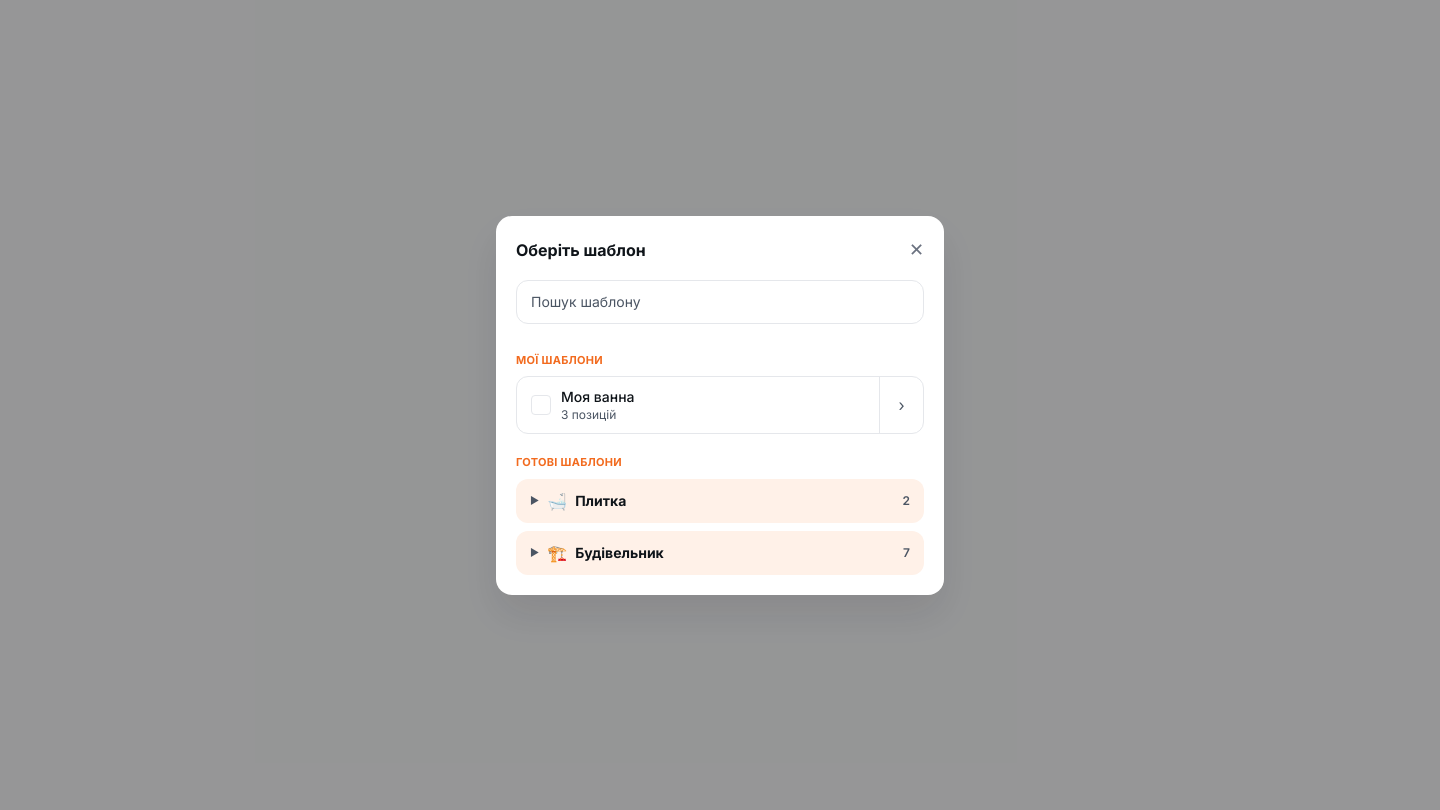
TemplatePickerSheet — trade is the top level › a search opens every branch — a collapsed trade cannot swallow a hit
The width and height of the screenshot is (1440, 810).
Type "к" into the search field.
click(720, 302); type("к")  # box [516, 280, 924, 324]
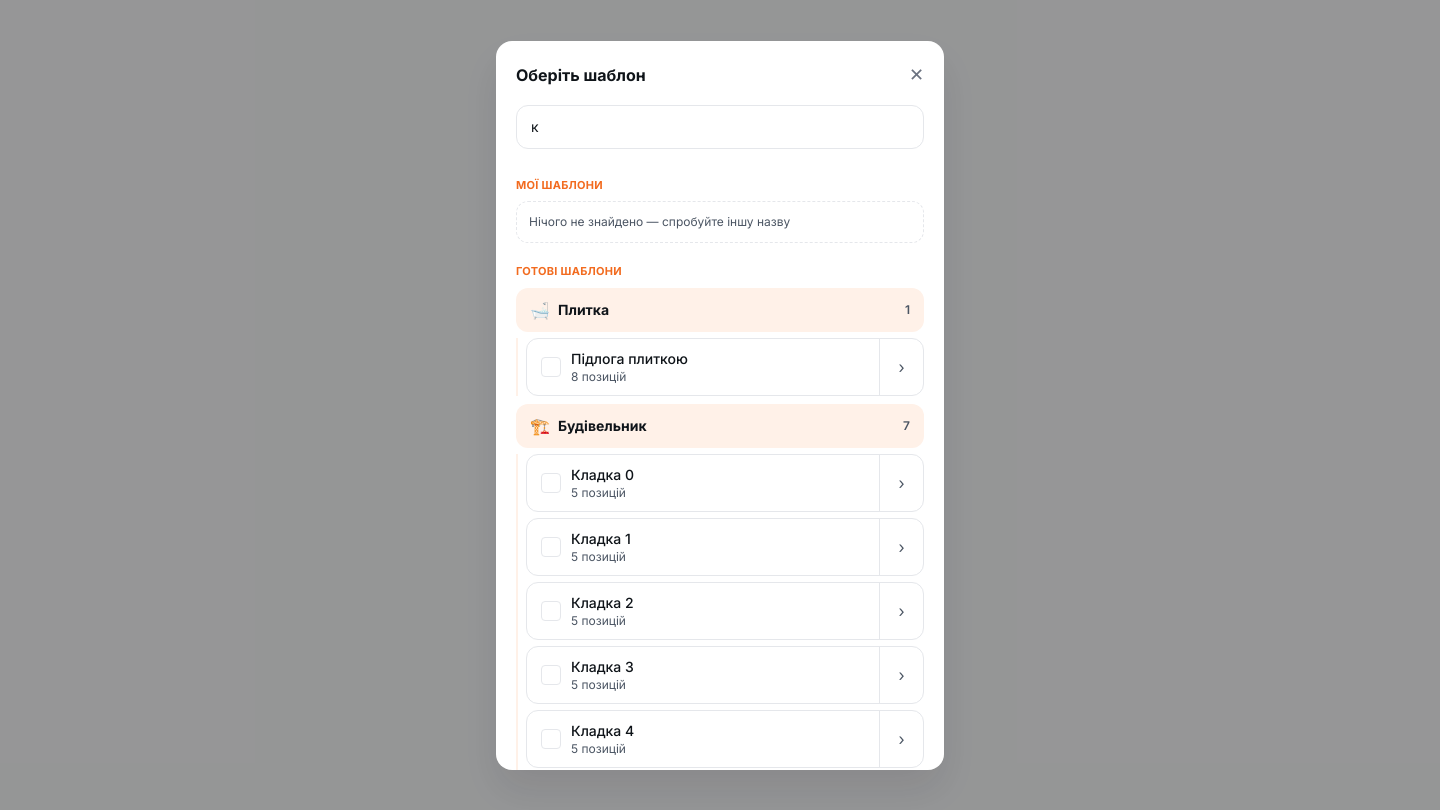
Check: the number of buttons with test id "template-trade" is 2, box [516, 288, 924, 332]; [516, 404, 924, 448]
Check: the text "Підлога плиткою" is shown, box [571, 350, 688, 366]
Check: the text "Кладка 0" is shown, box [571, 466, 634, 482]
